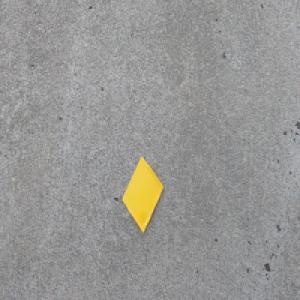PlasticPart: (122, 153, 165, 234)
